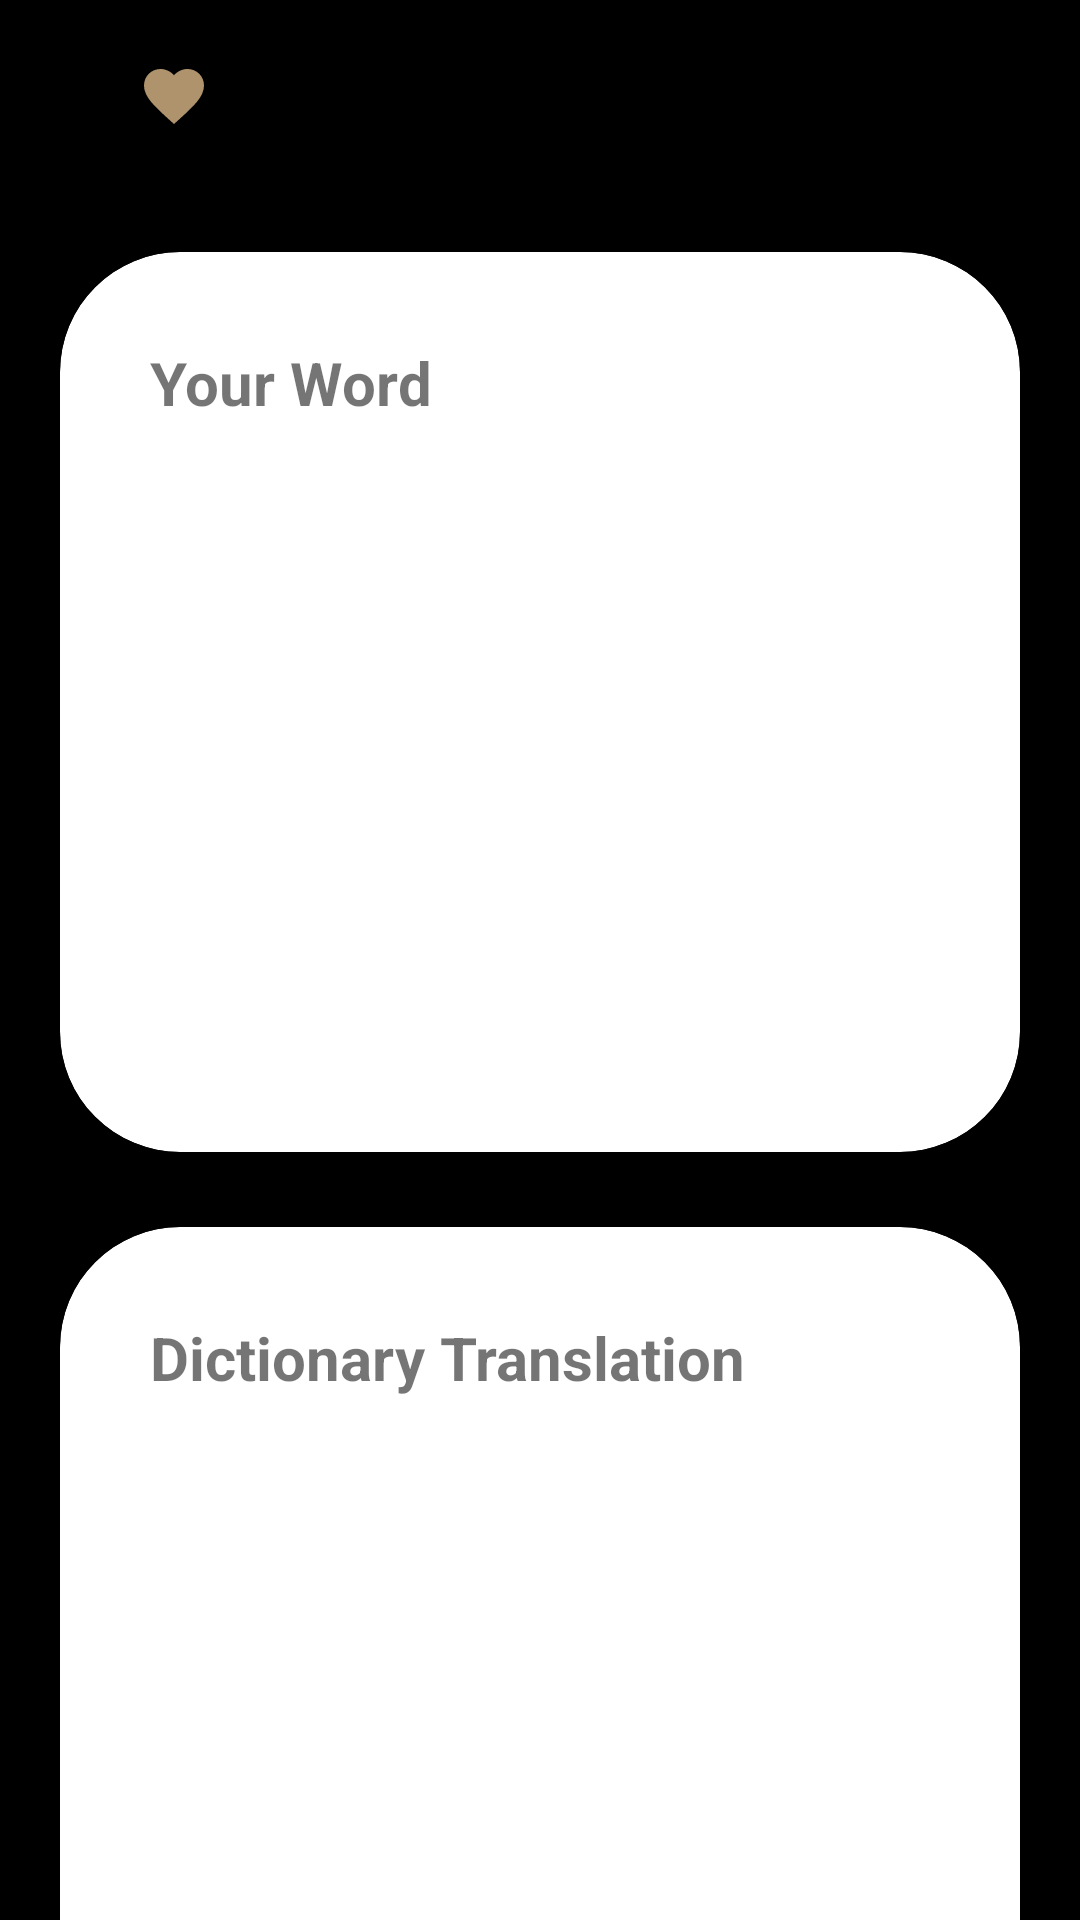

Named icons in this screenshot (1080w x 1920h) and their centers, point (x, y):
favorite: point (174, 96)
